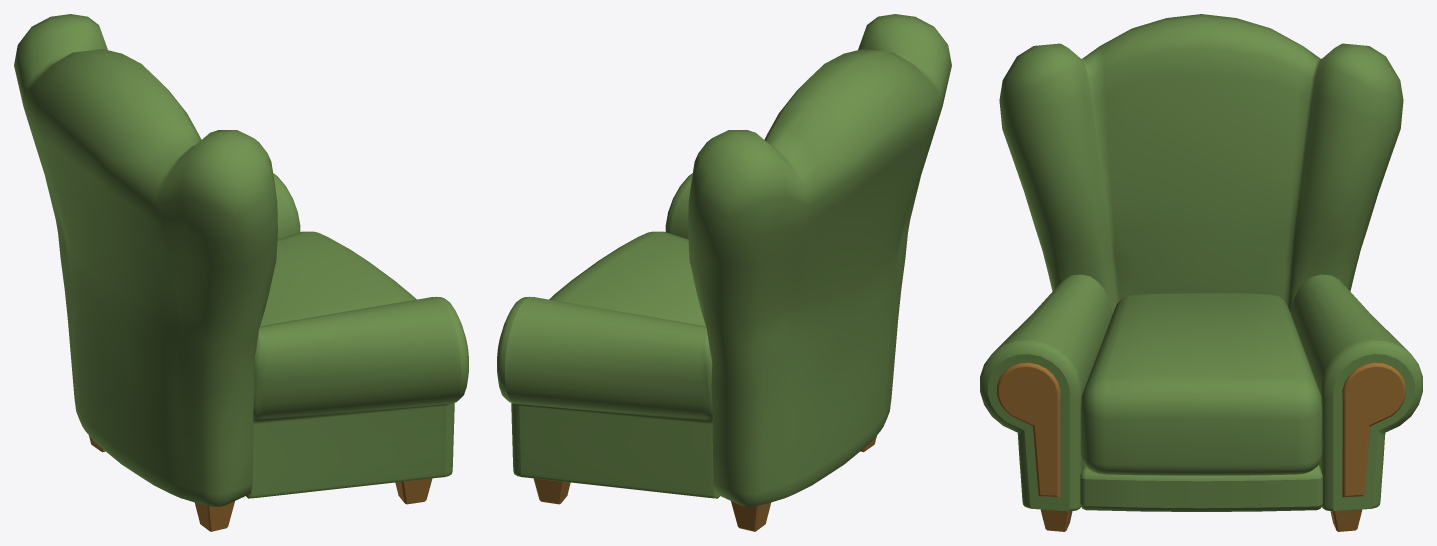
File: Single_couch2.glb
The picture shows the model from 3 angles, left to right: view 1: azimuth 30°, elevation 25°; view 2: azimuth 150°, elevation 25°; view 3: azimuth 270°, elevation 25°; orthographic projection. The views are drawn at different scales.
Parts seen in each view (by area): view 1: Chair3; view 2: Chair3; view 3: Chair3.
Boxes of the visible parts, x1,y1,x2,y2 form: Chair3: [14, 14, 468, 531]; Chair3: [497, 14, 951, 531]; Chair3: [980, 14, 1422, 531].
Size of the model in its own units: 1.23 by 1.56 by 1.54.
